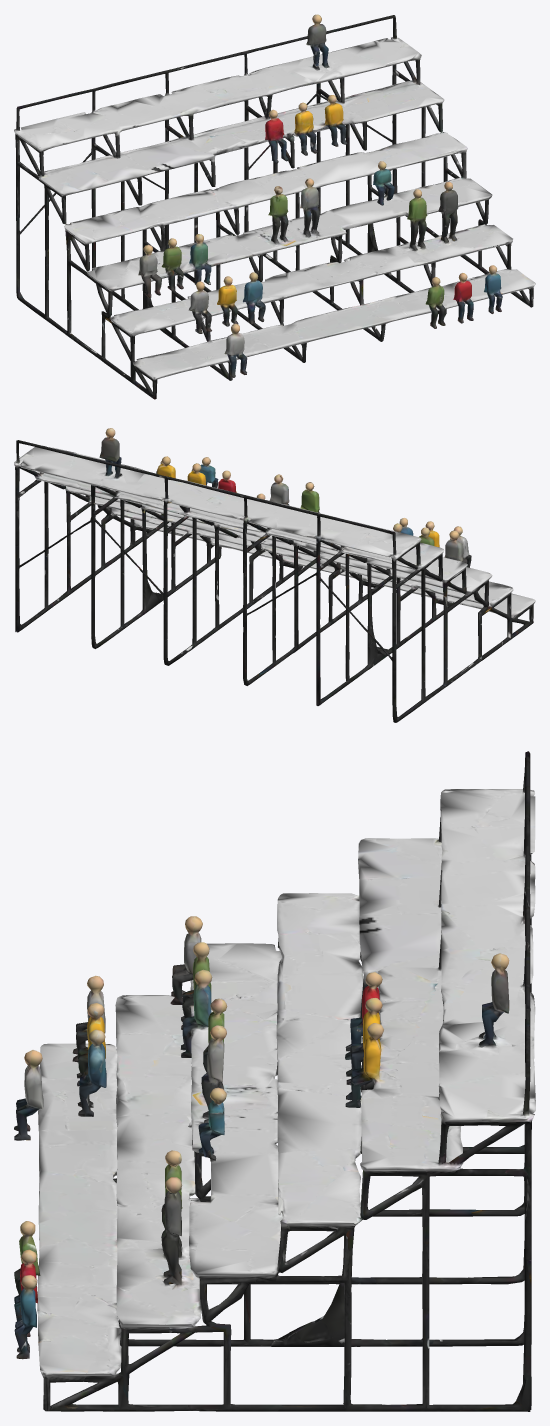
File: amphitheater.glb
3 views of the same model, one above another, from view 1: azimuth 30°, elevation 25°; view 2: azimuth 150°, elevation 25°; view 3: azimuth 270°, elevation 25° (orthographic). The views are drawn at different scales.
Visible parts, largest first — view 1: Mesh_0; view 2: Mesh_0; view 3: Mesh_0.
Part boxes in pixels (x1,y1,x2,y2): Mesh_0: [14, 14, 535, 399]; Mesh_0: [14, 428, 535, 722]; Mesh_0: [14, 751, 535, 1411].
Size of the model in its own units: 0.19 by 0.1034 by 0.1272.
Materials: 1 (1 with a texture image).
